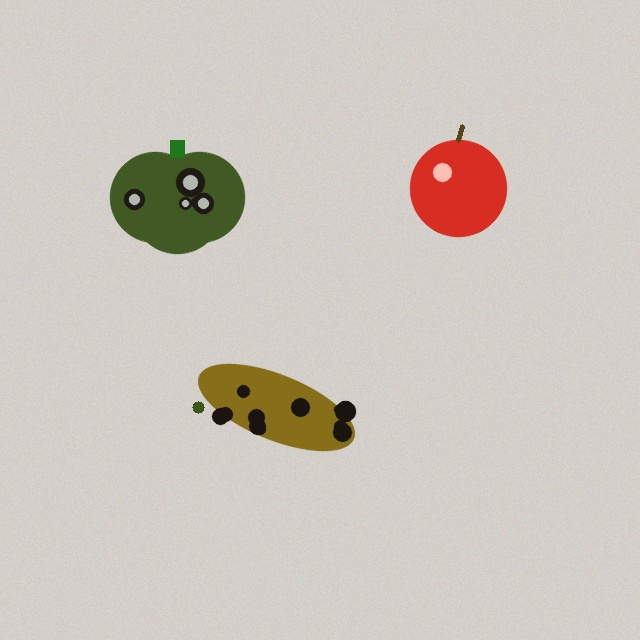Fresh apple: (410, 126, 506, 236)
Rotten banana: (189, 367, 363, 447)
Rotten bell pepper: (110, 140, 244, 253)
